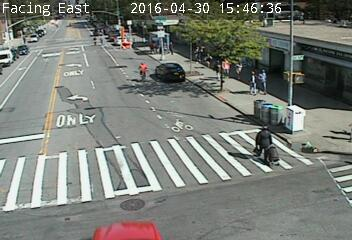neg: (163, 70, 183, 97), (130, 58, 150, 84), (182, 112, 201, 138), (293, 12, 312, 38), (4, 62, 23, 87), (140, 157, 155, 177), (55, 23, 69, 43), (120, 192, 134, 211), (103, 66, 117, 85), (318, 89, 332, 108), (30, 134, 44, 152), (282, 102, 295, 120), (53, 100, 66, 117), (48, 171, 61, 188), (86, 101, 99, 117), (34, 21, 46, 38), (182, 15, 194, 31), (311, 54, 323, 70), (250, 97, 262, 113), (122, 110, 134, 125), (122, 144, 133, 159), (65, 68, 76, 83), (319, 132, 330, 146), (26, 43, 36, 56), (299, 144, 306, 154)
pos: (247, 121, 283, 168), (251, 63, 275, 95), (213, 51, 235, 80), (240, 66, 260, 93), (229, 54, 249, 80), (207, 54, 227, 80), (190, 41, 209, 66), (163, 39, 176, 56), (90, 34, 101, 48), (18, 33, 29, 47), (96, 34, 105, 46)
